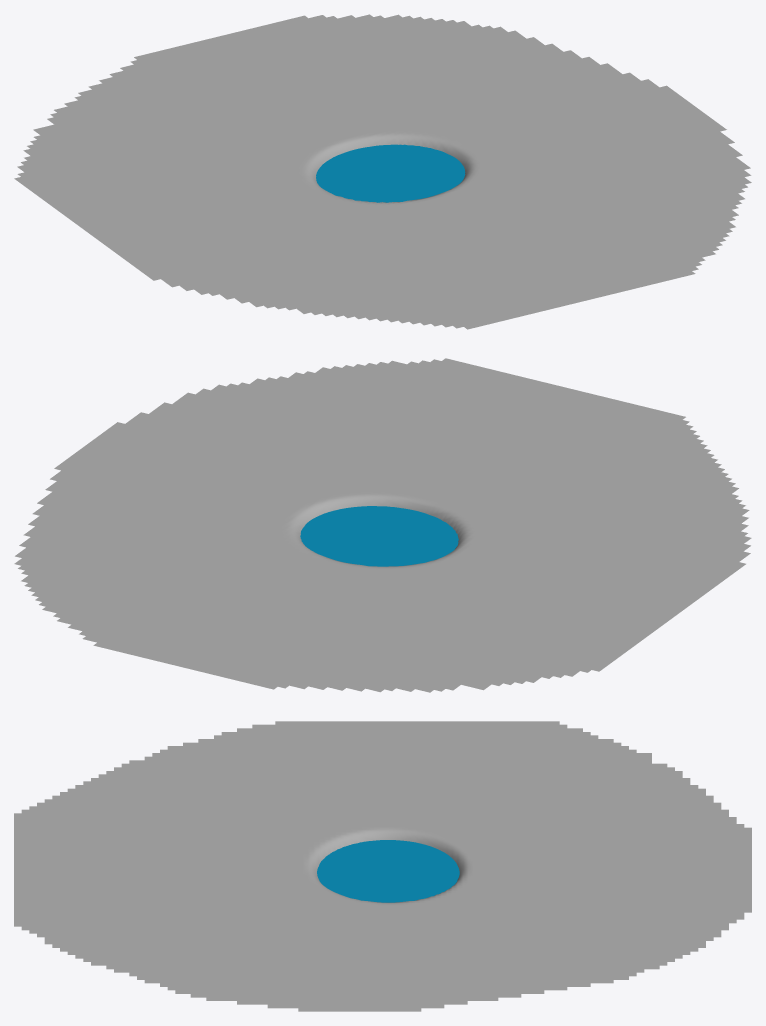
The model's file is SM_Ground.fbx.
3 renders of one model, top to bottom at view 1: azimuth 30°, elevation 25°; view 2: azimuth 150°, elevation 25°; view 3: azimuth 270°, elevation 25°, orthographic. The views are drawn at different scales.
Visible parts, largest first — view 1: polySurface3; view 2: polySurface3; view 3: polySurface3.
Boxes of the visible parts, box(x1,y1,x2,y2) form: polySurface3: box(14, 14, 751, 329); polySurface3: box(14, 358, 751, 692); polySurface3: box(14, 721, 751, 1011).
Size of the model in its own units: 4203 by 262 by 4512.
